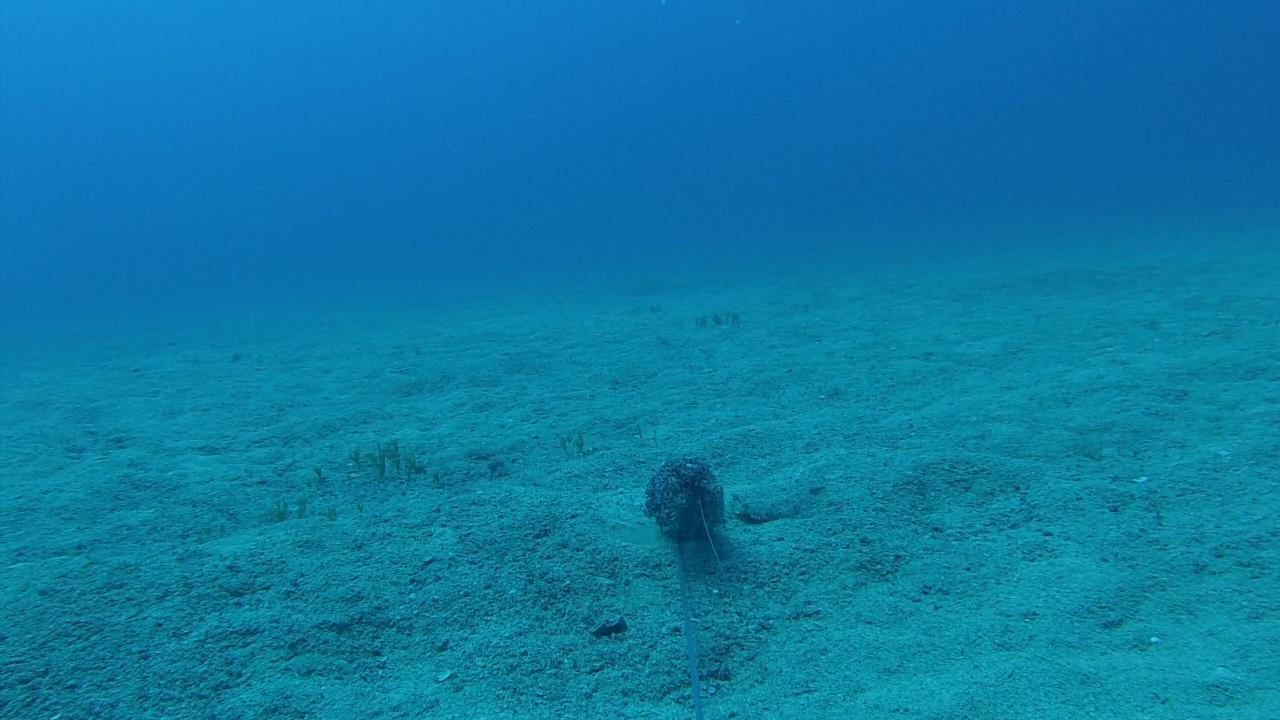bothus: (726, 457, 831, 529)
